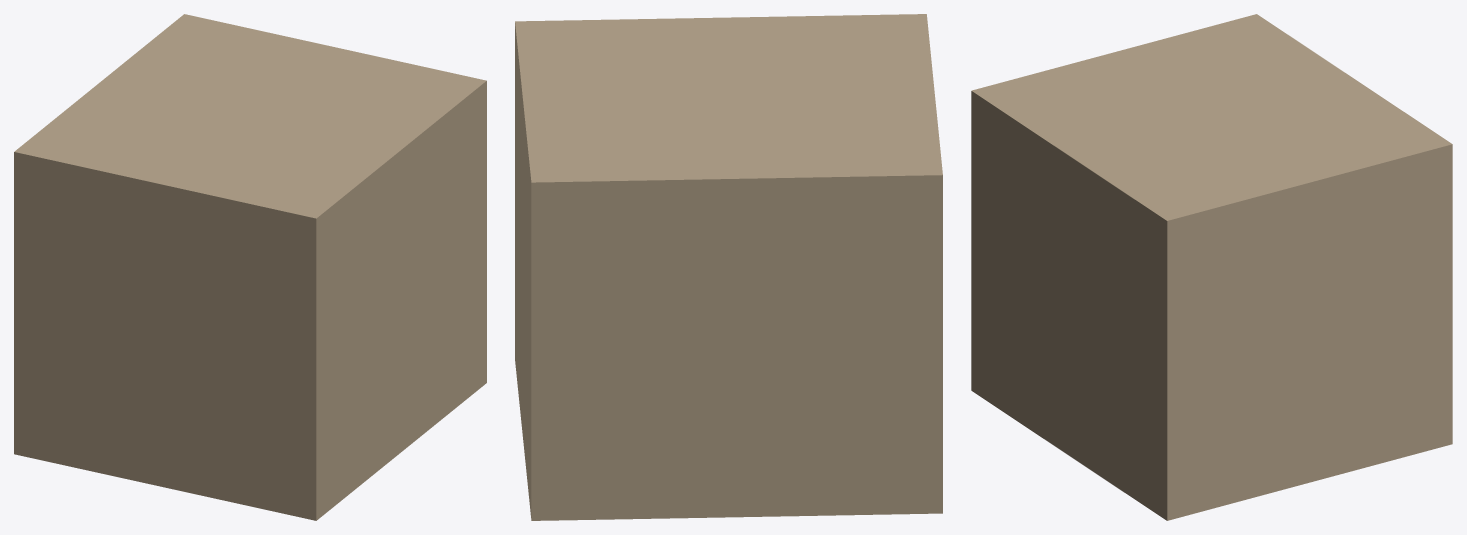
File: bld_101791608.dae
The picture shows the model from 3 angles, left to right: view 1: azimuth 30°, elevation 25°; view 2: azimuth 150°, elevation 25°; view 3: azimuth 270°, elevation 25°; orthographic projection. The views are drawn at different scales.
Parts seen in each view (by area): view 1: bld_101791608; view 2: bld_101791608; view 3: bld_101791608.
Boxes of the visible parts, box(x1,y1,x2,y2) form: bld_101791608: box(14, 14, 486, 520); bld_101791608: box(515, 14, 942, 520); bld_101791608: box(971, 14, 1452, 520).
Bounding box in the file's own units: 11.84 × 11.64 × 8.
